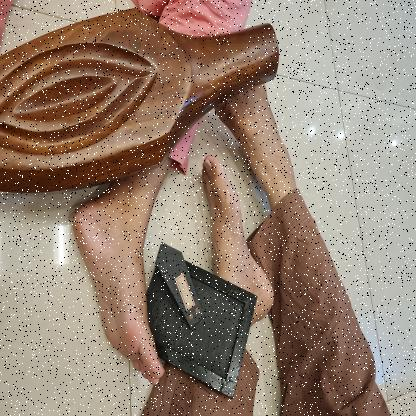leg: (66, 155, 172, 391), (199, 146, 276, 326), (211, 78, 298, 209)
